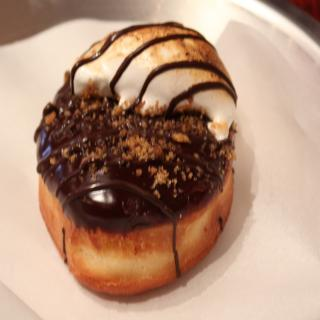Doughnut: (33, 20, 239, 298)
